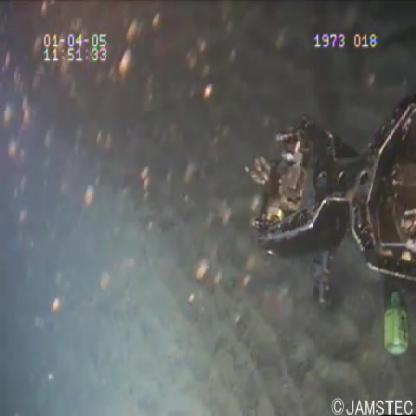Rov: (243, 94, 416, 313)
Rác: (378, 287, 412, 358)
